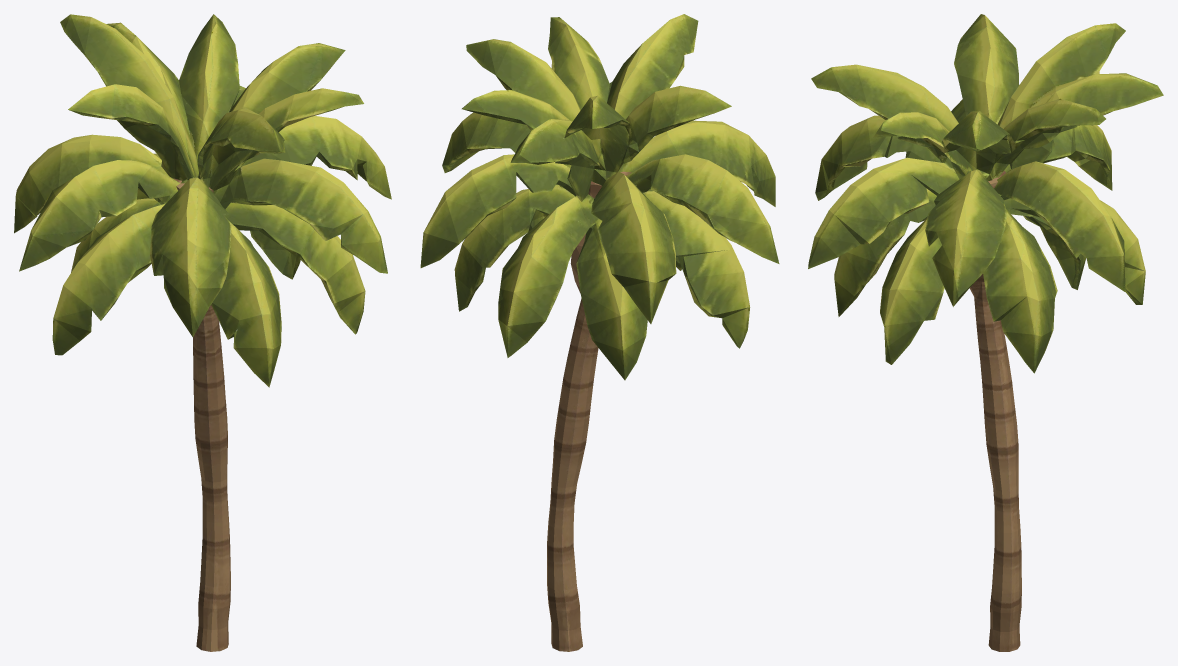
Rendered from palm_a.glb.
The picture shows the model from 3 angles, left to right: view 1: azimuth 30°, elevation 25°; view 2: azimuth 150°, elevation 25°; view 3: azimuth 270°, elevation 25°; orthographic projection. The views are drawn at different scales.
Visible parts, largest first — view 1: body; view 2: body; view 3: body.
Part boxes in pixels (left/top/right/bottom): body: left=14, top=14, right=391, bottom=651; body: left=420, top=14, right=779, bottom=651; body: left=808, top=14, right=1163, bottom=651.
Bounding box in the file's own units: 5.24 × 8.54 × 4.71.
Materials: 2 (2 with a texture image).
